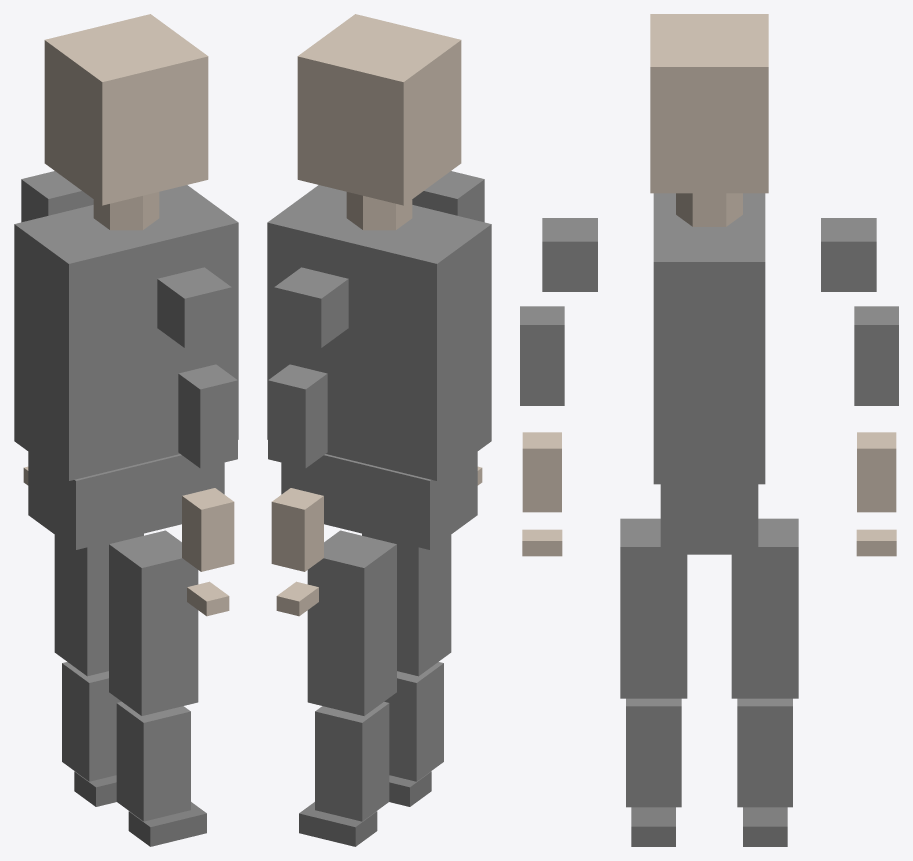
Rendered from npc_01.glb.
3 renders of one model, left to right at view 1: azimuth 30°, elevation 25°; view 2: azimuth 150°, elevation 25°; view 3: azimuth 270°, elevation 25°, orthographic. The views are drawn at different scales.
Visible parts, largest first — view 1: npc_01; view 2: npc_01; view 3: npc_01.
Part boxes in pixels (x1=…): npc_01: x1=14, y1=14, x2=238, y2=846; npc_01: x1=267, y1=14, x2=491, y2=846; npc_01: x1=520, y1=14, x2=898, y2=846.
Bounding box in the file's own units: 0.36 × 1.55 × 0.68.
